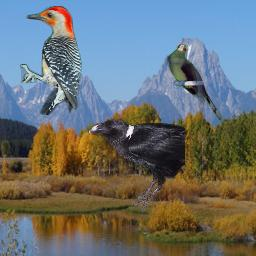Crow: (88, 118, 185, 213)
Cuckoo: (167, 44, 229, 125)
Woodpecker: (20, 6, 84, 115)
